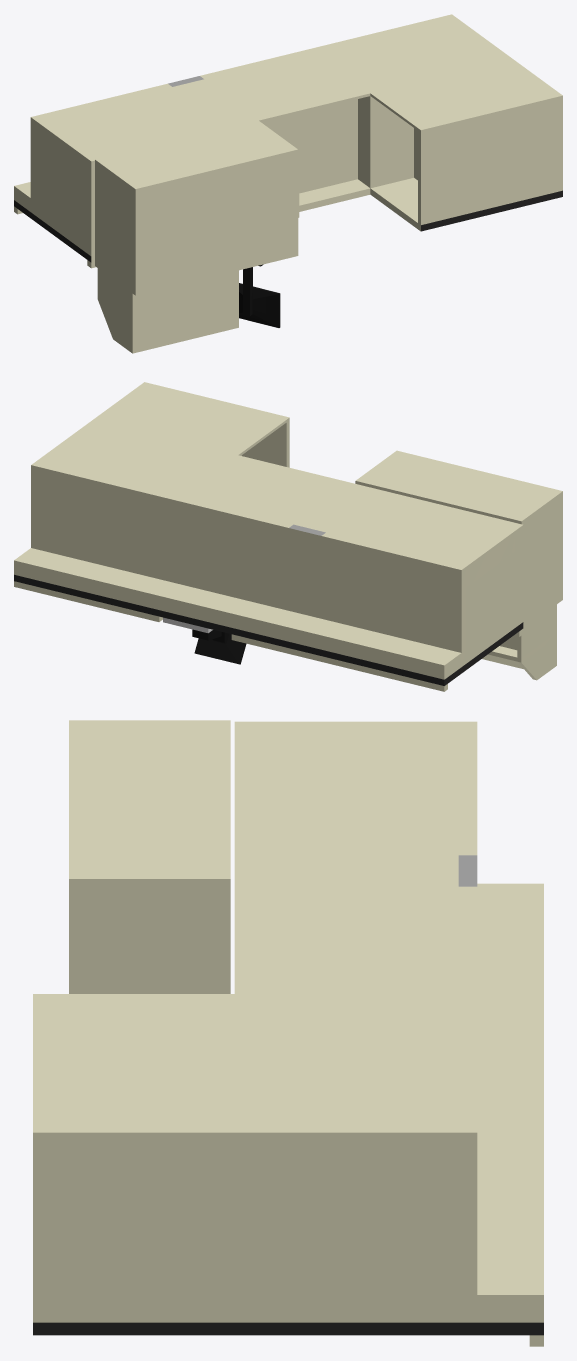
The model's file is Checkout_counter.fbx.
3 renders of one model, top to bottom at view 1: azimuth 30°, elevation 25°; view 2: azimuth 150°, elevation 25°; view 3: azimuth 270°, elevation 25°, orthographic. The views are drawn at different scales.
Parts seen in each view (by area): view 1: pCube2, pCube3, pCube7, pCube4; view 2: pCube2, pCube3, pCube7; view 3: pCube2, pCube3.
Part boxes in pixels (bbox=[...]): pCube2: bbox=[14, 14, 562, 268]; pCube3: bbox=[95, 120, 298, 295]; pCube7: bbox=[97, 268, 238, 353]; pCube4: bbox=[239, 264, 280, 327]; pCube2: bbox=[14, 382, 523, 691]; pCube3: bbox=[355, 450, 562, 628]; pCube7: bbox=[482, 604, 556, 680]; pCube2: bbox=[33, 721, 543, 1346]; pCube3: bbox=[69, 720, 230, 993].
Size of the model in its own units: 11.51 by 4.57 by 6.04.
